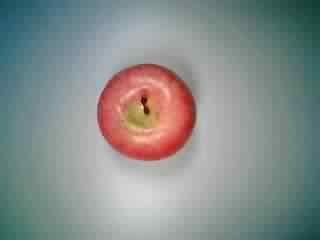apple: (95, 61, 199, 163)
